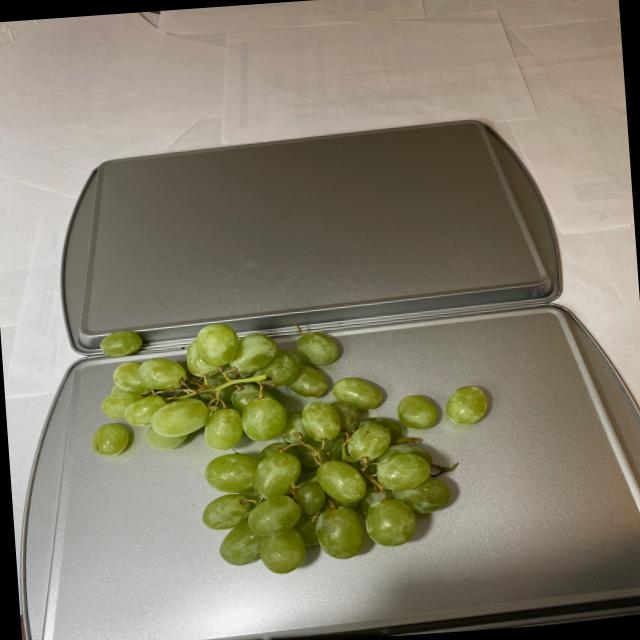grapes: (75, 308, 498, 578)
